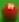red: (0, 0, 19, 22)
